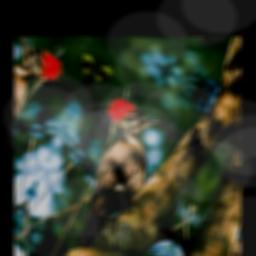Woodpecker: (45, 89, 181, 256)
